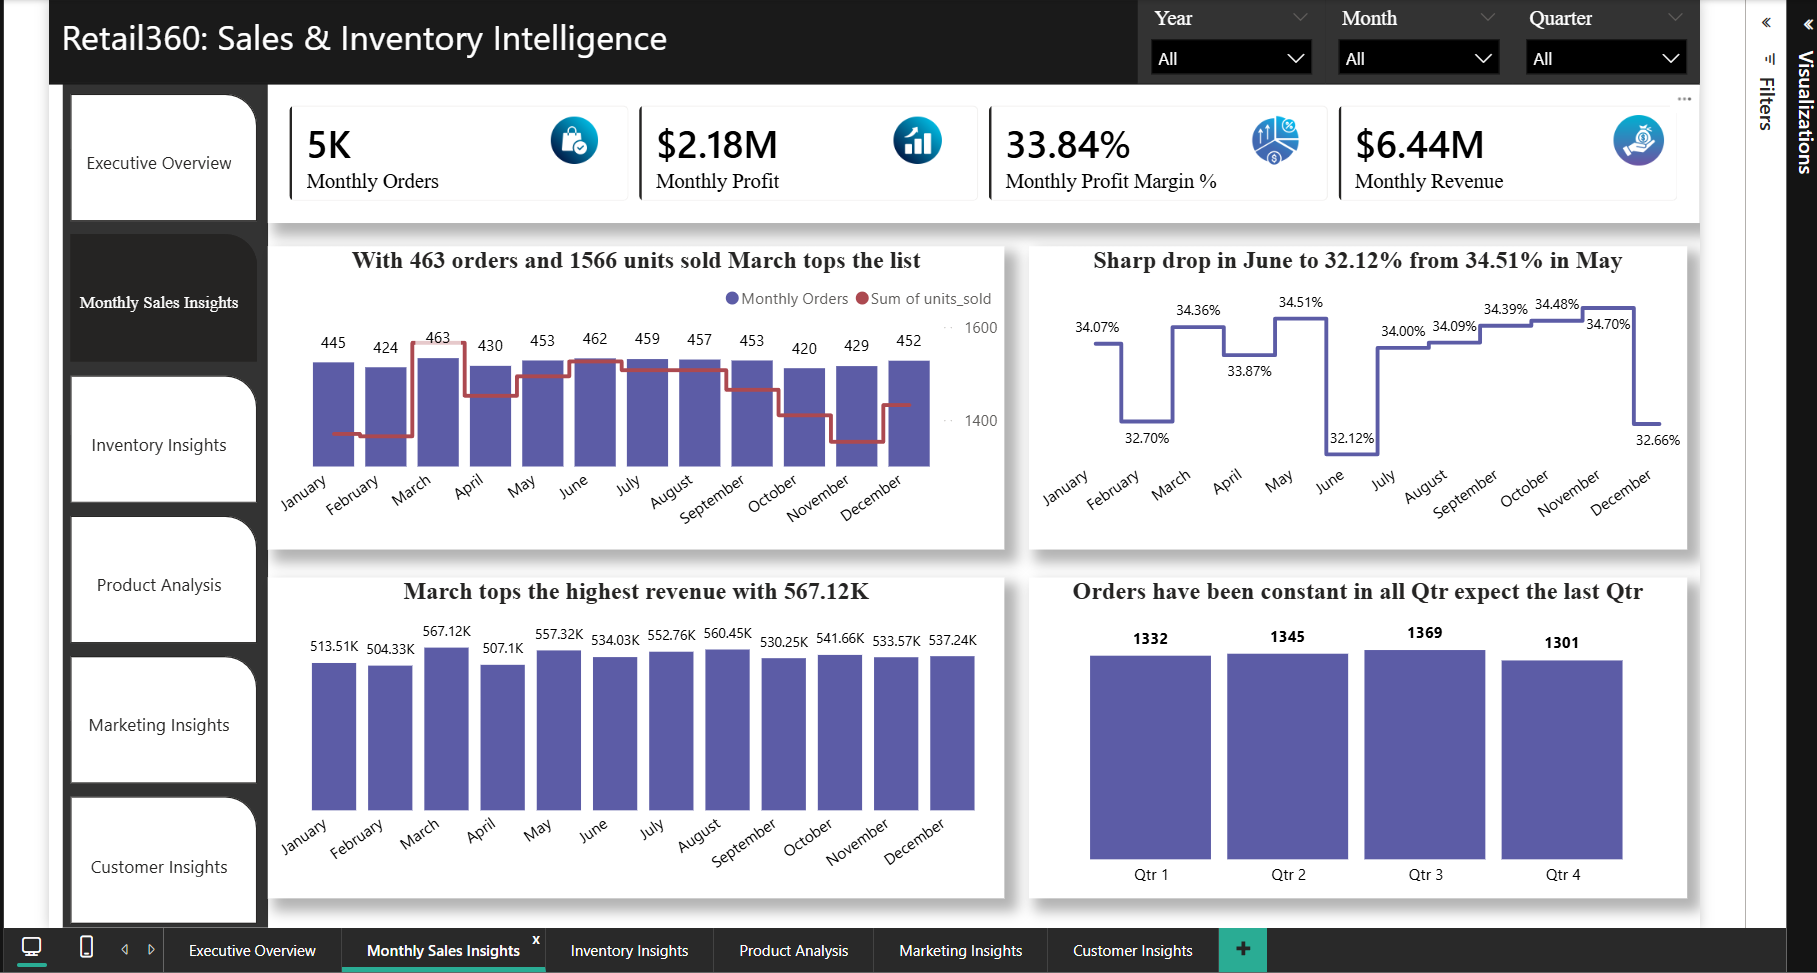

The page's visual inventory and layout, read from the dashboard file:
{"tool":"powerbi","page":{"name":"Monthly Sales Insights","canvas":[1280,720],"ordinal":1},"visuals":[{"type":"textbox","box":[10.5,65.1,159.3,654.7],"z":0},{"type":"cardVisual","fields":{"Data":["Dax measure.Monthly Orders","Dax measure.Monthly Profit","Dax measure.Monthly Profit Margin %","Dax measure.Monthly Revenue"]},"box":[169.8,65.1,1110.5,108.1],"z":1000},{"type":"lineClusteredColumnComboChart","title":"With 463 orders and 1566 units sold March tops the list","fields":{"Category":["vw_monthly_sales.month_start_date.Variation.Date Hierarchy.Month"],"Y":["Dax measure.Monthly Orders"],"Y2":["Sum(vw_monthly_sales.units_sold)"]},"box":[170,191.2,571.2,235],"z":2000},{"type":"clusteredColumnChart","title":"March tops the highest revenue with 567.12K","fields":{"Category":["vw_monthly_sales.month_start_date.Variation.Date Hierarchy.Month"],"Y":["Sum(vw_monthly_sales.revenue)"]},"box":[170,447.5,571.2,248.8],"z":3000},{"type":"lineChart","title":"Sharp drop in June to 32.12% from 34.51% in May","fields":{"Category":["vw_monthly_sales.month_start_date.Variation.Date Hierarchy.Month"],"Y":["Dax measure.Monthly Profit Margin %"]},"box":[760,191.2,510,235],"z":4000},{"type":"columnChart","title":"Orders have been constant in all Qtr expect the last Qtr","fields":{"Category":["vw_monthly_sales.month_start_date.Variation.Date Hierarchy.Quarter"],"Y":["Dax measure.Monthly Orders"]},"box":[760,447.5,510,248.8],"z":5000},{"type":"textbox","box":[0,0,1280.3,65.3],"z":6000},{"type":"slicer","fields":{"Values":["vw_monthly_sales.month"]},"box":[989.5,0,145.3,65.1],"z":7000},{"type":"slicer","fields":{"Values":["vw_monthly_sales.month_start_date.Variation.Date Hierarchy.Quarter"]},"box":[1134.9,0,145.3,65.1],"z":8000},{"type":"slicer","fields":{"Values":["vw_monthly_sales.month_start_date.Variation.Date Hierarchy.Year"]},"box":[844.2,0,145.3,65.1],"z":9000},{"type":"image","box":[383.7,89.5,47.7,39.5],"z":10000},{"type":"image","box":[650,89.5,46.5,39.5],"z":11000},{"type":"image","box":[926.7,89.5,48.8,39.5],"z":12000},{"type":"image","box":[1207,89.5,52.3,39.5],"z":13000},{"type":"pageNavigator","box":[16.9,72.8,145.5,647.5],"z":13001}]}

Visuals, with their boxes on the page's 1280x720 design canvas (x1, y1, x2, y2). These are canvas units, not pixel positions in the 1817x973 screenshot, which may show the page scaled, cropped or inside an application window:
textbox: [left=10, top=65, right=170, bottom=720]
cardVisual - Dax measure.Monthly Orders x Dax measure.Monthly Profit: [left=170, top=65, right=1280, bottom=173]
"With 463 orders and 1566 units sold March tops the list" lineClusteredColumnComboChart: [left=170, top=191, right=741, bottom=426]
"March tops the highest revenue with 567.12K" clusteredColumnChart: [left=170, top=448, right=741, bottom=696]
"Sharp drop in June to 32.12% from 34.51% in May" lineChart: [left=760, top=191, right=1270, bottom=426]
"Orders have been constant in all Qtr expect the last Qtr" columnChart: [left=760, top=448, right=1270, bottom=696]
textbox: [left=0, top=0, right=1280, bottom=65]
slicer - vw_monthly_sales.month: [left=990, top=0, right=1135, bottom=65]
slicer - vw_monthly_sales.month_start_date.Variation.Date Hierarchy.Quarter: [left=1135, top=0, right=1280, bottom=65]
slicer - vw_monthly_sales.month_start_date.Variation.Date Hierarchy.Year: [left=844, top=0, right=990, bottom=65]
image: [left=384, top=90, right=431, bottom=129]
image: [left=650, top=90, right=696, bottom=129]
image: [left=927, top=90, right=976, bottom=129]
image: [left=1207, top=90, right=1259, bottom=129]
pageNavigator: [left=17, top=73, right=162, bottom=720]
